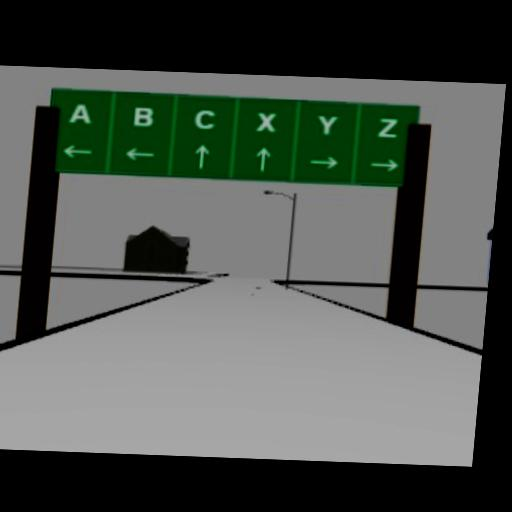A: (68, 101, 93, 122)
B: (132, 105, 154, 126)
C: (192, 108, 216, 128)
Left: (124, 145, 156, 160), (61, 143, 93, 158)
Right: (308, 154, 340, 169), (370, 156, 400, 171)
Straight: (192, 141, 210, 167), (253, 145, 270, 169)
X: (255, 110, 277, 131)
Y: (315, 113, 339, 134)
Z: (376, 115, 400, 136)
